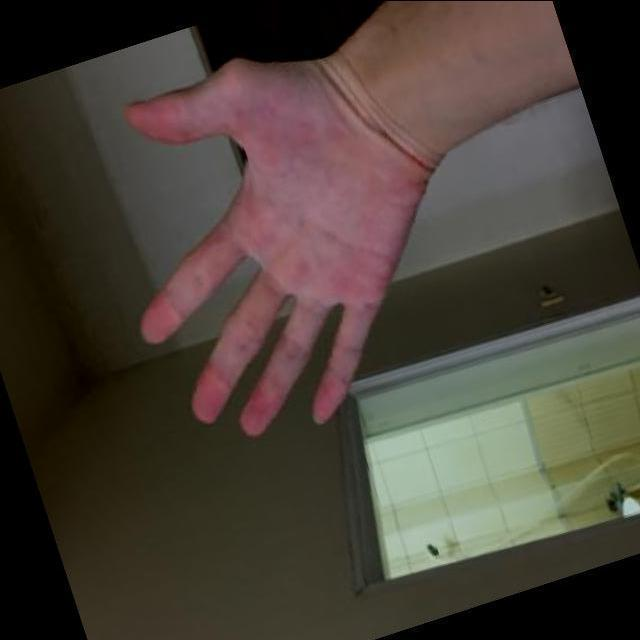Hand: (118, 9, 444, 438)
